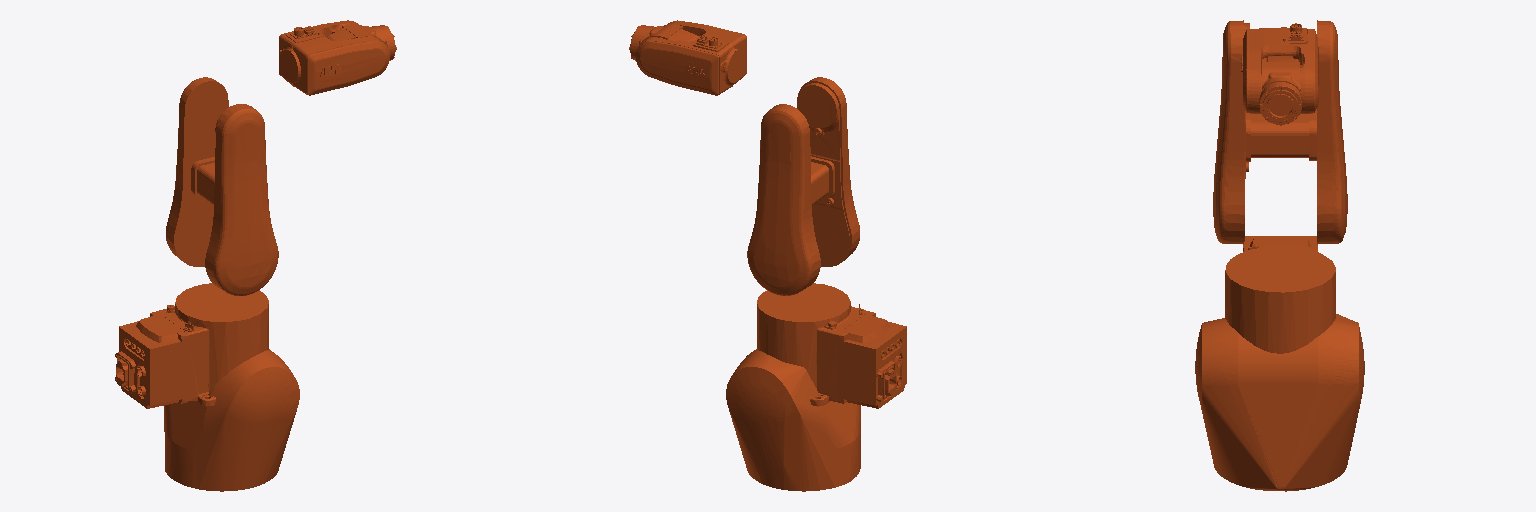
The robot description file, URDF, robot "abb_irb120_3_58":
<?xml version="1.0" ?>
<!-- =================================================================================== -->
<!-- |    This document was autogenerated by xacro from /tmp/claude-0/-home-claude/8f5dd28e-fe63-5f45-8f7e-d1a0395364a9/scratchpad/repos/abb2/abb_irb120_support/urdf/irb120_3_58.xacro | -->
<!-- |    EDITING THIS FILE BY HAND IS NOT RECOMMENDED                                 | -->
<!-- =================================================================================== -->
<robot name="abb_irb120_3_58">
  <!-- Conversion were obtained from http://www.e-paint.co.uk/Lab_values.asp
       unless otherwise stated. -->
  <!-- link list -->
  <link name="base_link">
    <inertial>
      <mass value="6.215"/>
      <origin rpy="0 0 0" xyz="-0.04204 8.01E-05 0.07964"/>
      <inertia ixx="0.0247272" ixy="-8.0784E-05" ixz="0.00130902" iyy="0.0491285" iyz="-8.0419E-06" izz="0.0472376"/>
    </inertial>
    <visual>
      <origin rpy="0 0 0" xyz="0 0 0"/>
      <geometry>
        <mesh filename="package://abb_irb120_support/meshes/irb120_3_58/visual/base_link.stl"/>
      </geometry>
      <material name="">
        <color rgba="0.7372549 0.3490196 0.1607843 1"/>
      </material>
    </visual>
    <collision>
      <origin rpy="0 0 0" xyz="0 0 0"/>
      <geometry>
        <mesh filename="package://abb_irb120_support/meshes/irb120_3_58/collision/base_link.stl"/>
      </geometry>
      <material name="">
        <color rgba="1 1 0 1"/>
      </material>
    </collision>
  </link>
  <link name="link_1">
    <inertial>
      <mass value="3.067"/>
      <origin rpy="0 0 0" xyz="9.77E-05 -0.00012 0.23841"/>
      <inertia ixx="0.0142175" ixy="-1.28579E-05" ixz="-2.31364E-05" iyy="0.0144041" iyz="1.93404E-05" izz="0.0104533"/>
    </inertial>
    <visual>
      <origin rpy="0 0 0" xyz="0 0 0"/>
      <geometry>
        <mesh filename="package://abb_irb120_support/meshes/irb120_3_58/visual/link_1.stl"/>
      </geometry>
      <material name="">
        <color rgba="0.7372549 0.3490196 0.1607843 1"/>
      </material>
    </visual>
    <collision>
      <origin rpy="0 0 0" xyz="0 0 0"/>
      <geometry>
        <mesh filename="package://abb_irb120_support/meshes/irb120_3_58/collision/link_1.stl"/>
      </geometry>
      <material name="">
        <color rgba="1 1 0 1"/>
      </material>
    </collision>
  </link>
  <link name="link_2">
    <inertial>
      <mass value="3.909"/>
      <origin rpy="0 0 0" xyz="0.00078 -0.00212 0.10124"/>
      <inertia ixx="0.0603111" ixy="9.83431E-06" ixz="5.72407E-05" iyy="0.041569" iyz="-0.00050497" izz="0.0259548"/>
    </inertial>
    <visual>
      <origin rpy="0 0 0" xyz="0 0 0"/>
      <geometry>
        <mesh filename="package://abb_irb120_support/meshes/irb120_3_58/visual/link_2.stl"/>
      </geometry>
      <material name="">
        <color rgba="0.7372549 0.3490196 0.1607843 1"/>
      </material>
    </visual>
    <collision>
      <origin rpy="0 0 0" xyz="0 0 0"/>
      <geometry>
        <mesh filename="package://abb_irb120_support/meshes/irb120_3_58/collision/link_2.stl"/>
      </geometry>
      <material name="">
        <color rgba="1 1 0 1"/>
      </material>
    </collision>
  </link>
  <link name="link_3">
    <inertial>
      <mass value="2.944"/>
      <origin rpy="0 0 0" xyz="0.02281 0.00106 0.05791"/>
      <inertia ixx="0.00835606" ixy="-8.01545E-05" ixz="0.00142884" iyy="0.016713" iyz="-0.000182227" izz="0.0126984"/>
    </inertial>
    <visual>
      <origin rpy="0 0 0" xyz="0 0 0"/>
      <geometry>
        <mesh filename="package://abb_irb120_support/meshes/irb120_3_58/visual/link_3.stl"/>
      </geometry>
      <material name="">
        <color rgba="0.7372549 0.3490196 0.1607843 1"/>
      </material>
    </visual>
    <collision>
      <origin rpy="0 0 0" xyz="0 0 0"/>
      <geometry>
        <mesh filename="package://abb_irb120_support/meshes/irb120_3_58/collision/link_3.stl"/>
      </geometry>
      <material name="">
        <color rgba="1 1 0 1"/>
      </material>
    </collision>
  </link>
  <link name="link_4">
    <inertial>
      <mass value="1.328"/>
      <origin rpy="0 0 0" xyz="0.2247 0.00015 0.00041"/>
      <inertia ixx="0.00284661" ixy="-2.12765E-05" ixz="-1.6435E-05" iyy="0.00401346" iyz="1.31336E-05" izz="0.0052535"/>
    </inertial>
    <visual>
      <origin rpy="0 0 0" xyz="0 0 0"/>
      <geometry>
        <mesh filename="package://abb_irb120_support/meshes/irb120_3_58/visual/link_4.stl"/>
      </geometry>
      <material name="">
        <color rgba="0.7372549 0.3490196 0.1607843 1"/>
      </material>
    </visual>
    <collision>
      <origin rpy="0 0 0" xyz="0 0 0"/>
      <geometry>
        <mesh filename="package://abb_irb120_support/meshes/irb120_3_58/collision/link_4.stl"/>
      </geometry>
      <material name="">
        <color rgba="1 1 0 1"/>
      </material>
    </collision>
  </link>
  <link name="link_5">
    <inertial>
      <mass value="0.546"/>
      <origin rpy="0 0 0" xyz="-0.00109 3.68E-05 6.22E-05"/>
      <inertia ixx="0.000404891" ixy="1.61943E-06" ixz="8.46805E-07" iyy="0.000892825" iyz="-1.51792E-08" izz="0.000815468"/>
    </inertial>
    <visual>
      <origin rpy="0 0 0" xyz="0 0 0"/>
      <geometry>
        <mesh filename="package://abb_irb120_support/meshes/irb120_3_58/visual/link_5.stl"/>
      </geometry>
      <material name="">
        <color rgba="0.7372549 0.3490196 0.1607843 1"/>
      </material>
    </visual>
    <collision>
      <origin rpy="0 0 0" xyz="0 0 0"/>
      <geometry>
        <mesh filename="package://abb_irb120_support/meshes/irb120_3_58/collision/link_5.stl"/>
      </geometry>
      <material name="">
        <color rgba="1 1 0 1"/>
      </material>
    </collision>
  </link>
  <link name="link_6">
    <inertial>
      <mass value="0.137"/>
      <origin rpy="0 0 0" xyz="-0.00706 -0.00017 -1.32E-06"/>
      <inertia ixx="0.001" ixy="0" ixz="0" iyy="0.001" iyz="0" izz="0.001"/>
    </inertial>
    <visual>
      <origin rpy="0 0 0" xyz="0 0 0"/>
      <geometry>
        <mesh filename="package://abb_irb120_support/meshes/irb120_3_58/visual/link_6.stl"/>
      </geometry>
      <material name="">
        <color rgba="0.1882353 0.1960784 0.2039216 1"/>
      </material>
    </visual>
    <collision>
      <origin rpy="0 0 0" xyz="0 0 0"/>
      <geometry>
        <mesh filename="package://abb_irb120_support/meshes/irb120_3_58/collision/link_6.stl"/>
      </geometry>
      <material name="">
        <color rgba="1 1 0 1"/>
      </material>
    </collision>
  </link>
  <!-- end of link list -->
  <!-- joint list -->
  <joint name="joint_1" type="revolute">
    <origin rpy="0 0 0" xyz="0 0 0"/>
    <parent link="base_link"/>
    <child link="link_1"/>
    <limit effort="0" lower="-2.87979" upper="2.87979" velocity="4.36332"/>
    <axis xyz="0 0 1"/>
    <dynamics damping="0.0" friction="0.0"/>
  </joint>
  <joint name="joint_2" type="revolute">
    <origin rpy="0 0 0" xyz="0 0 0.29"/>
    <parent link="link_1"/>
    <child link="link_2"/>
    <limit effort="0" lower="-1.91986" upper="1.91986" velocity="4.36332"/>
    <axis xyz="0 1 0"/>
    <dynamics damping="0.0" friction="0.0"/>
  </joint>
  <joint name="joint_3" type="revolute">
    <origin rpy="0 0 0" xyz="0 0 0.27"/>
    <parent link="link_2"/>
    <child link="link_3"/>
    <limit effort="0" lower="-1.91986" upper="1.22173" velocity="4.36332"/>
    <axis xyz="0 1 0"/>
    <dynamics damping="0.0" friction="0.0"/>
  </joint>
  <joint name="joint_4" type="revolute">
    <origin rpy="0 0 0" xyz="0 0 0.07"/>
    <parent link="link_3"/>
    <child link="link_4"/>
    <limit effort="0" lower="-2.79253" upper="2.79253" velocity="5.58505"/>
    <axis xyz="1 0 0"/>
    <dynamics damping="0.0" friction="0.0"/>
  </joint>
  <joint name="joint_5" type="revolute">
    <origin rpy="0 0 0" xyz="0.302 0 0"/>
    <parent link="link_4"/>
    <child link="link_5"/>
    <limit effort="0" lower="-2.094395" upper="2.094395" velocity="5.58505"/>
    <axis xyz="0 1 0"/>
    <dynamics damping="0.0" friction="0.0"/>
  </joint>
  <joint name="joint_6" type="revolute">
    <origin rpy="0 0 0" xyz="0.072 0 0"/>
    <parent link="link_5"/>
    <child link="link_6"/>
    <limit effort="0" lower="-6.98132" upper="6.98132" velocity="7.33038"/>
    <axis xyz="1 0 0"/>
    <dynamics damping="0.0" friction="0.0"/>
  </joint>
  <!-- end of joint list -->
  <!-- ROS-Industrial 'base' frame: base_link to ABB World Coordinates transform -->
  <link name="base"/>
  <joint name="base_link-base" type="fixed">
    <origin rpy="0 0 0" xyz="0 0 0"/>
    <parent link="base_link"/>
    <child link="base"/>
  </joint>
  <!-- ROS-Industrial 'flange' frame: attachment point for EEF models -->
  <link name="flange"/>
  <joint name="joint_6-flange" type="fixed">
    <origin rpy="0 0 0" xyz="0 0 0"/>
    <parent link="link_6"/>
    <child link="flange"/>
  </joint>
  <!-- ROS-Industrial 'tool0' frame: all-zeros tool frame -->
  <link name="tool0"/>
  <joint name="link_6-tool0" type="fixed">
    <origin rpy="0 1.5707963267948966 0" xyz="0 0 0"/>
    <parent link="flange"/>
    <child link="tool0"/>
  </joint>
</robot>

--- Render facts (derived) ---
3 views of the same robot in one strip: view 1: azimuth 30°, elevation 25°; view 2: azimuth 150°, elevation 25°; view 3: azimuth 270°, elevation 25° (orthographic).
Robot: abb_irb120_3_58 — 10 links, 9 joints (6 revolute, 3 fixed); root link base_link; default pose: every joint at zero.
Visible links, largest first — view 1: link_2, link_1, base_link, link_4, link_5; view 2: link_2, link_1, base_link, link_4, link_5; view 3: link_1, link_2, base_link, link_4, link_5.
Boxes of the visible links, bbox=[...] form: link_2: bbox=[166, 77, 278, 295]; link_1: bbox=[164, 349, 299, 491]; base_link: bbox=[115, 283, 268, 408]; link_4: bbox=[279, 20, 389, 95]; link_5: bbox=[327, 24, 396, 60]; link_2: bbox=[747, 77, 859, 295]; link_1: bbox=[726, 349, 860, 491]; base_link: bbox=[757, 283, 906, 408]; link_4: bbox=[636, 20, 746, 95]; link_5: bbox=[629, 24, 699, 60]; link_1: bbox=[1195, 314, 1364, 491]; link_2: bbox=[1213, 20, 1347, 244]; base_link: bbox=[1225, 236, 1335, 353]; link_4: bbox=[1241, 23, 1318, 113]; link_5: bbox=[1259, 56, 1301, 125].
Bounding box of the posed robot: 0.5793 × 0.276 × 0.873 m (x, y, z).
Meshes: 7 distinct files referenced, 5 mesh visuals loaded (5 binary STL); not drawn: 2 (reference not matched to a file when rendering).
